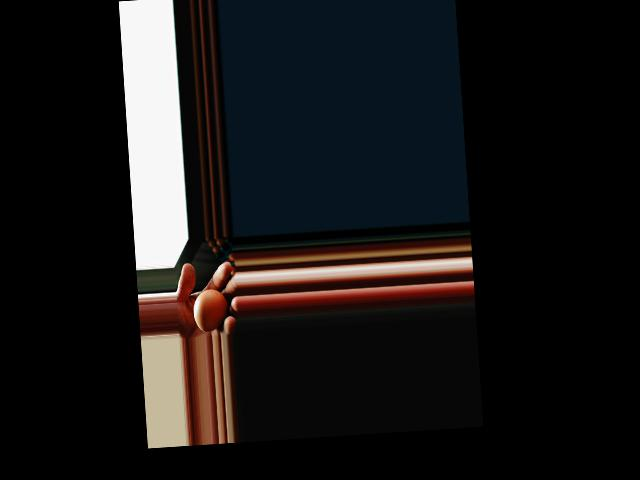egg: (192, 288, 230, 333)
